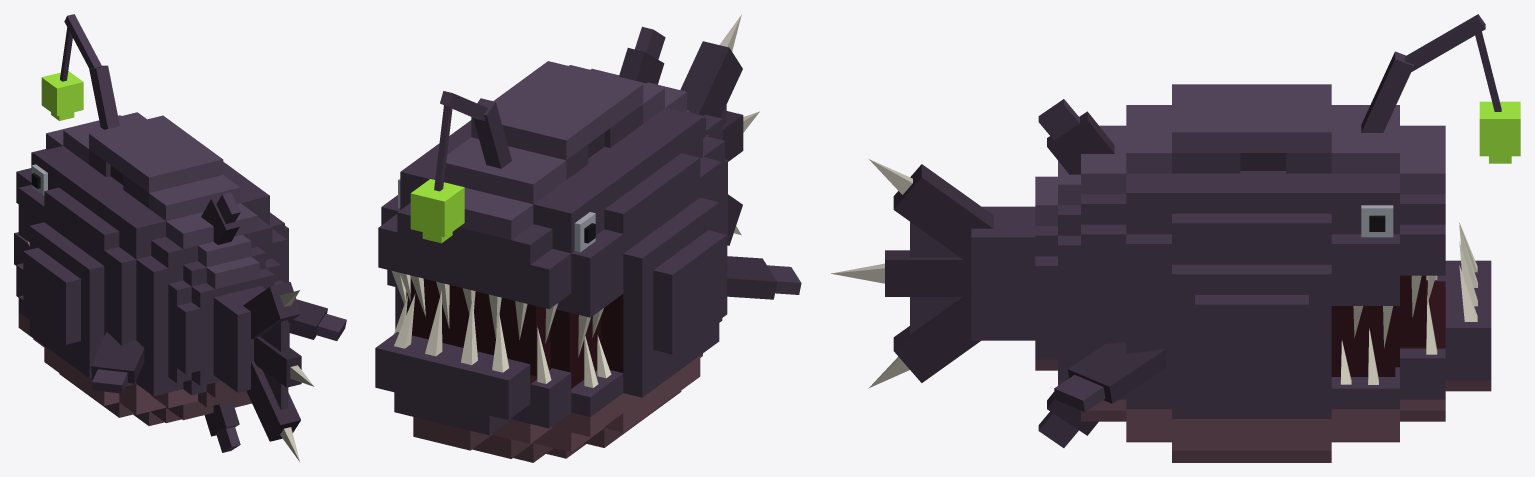
Rendered from Anglerfish.obj.
3 renders of one model, left to right at view 1: azimuth 30°, elevation 25°; view 2: azimuth 150°, elevation 25°; view 3: azimuth 270°, elevation 25°, orthographic. The views are drawn at different scales.
Parts seen in each view (by area): view 1: Body, B3, Tail, B2, FinL, Lure, FinR, Rod1, Jaw, Rod2; view 2: Body, Jaw, Tail, Lure, B2, B3, FinL, Rod1, Rod2; view 3: Body, B3, Tail, Jaw, B2, FinR, Lure, Rod1, Rod2.
Part boxes in pixels (x1,y1,x2,y2): Body: (16, 112, 288, 425); B3: (136, 192, 289, 452); Tail: (213, 282, 314, 462); B2: (104, 175, 284, 423); FinL: (91, 331, 144, 393); Lure: (41, 27, 83, 120); FinR: (289, 299, 346, 340); Rod1: (89, 65, 119, 129); Jaw: (14, 232, 44, 346); Rod2: (64, 14, 101, 68); Body: (378, 61, 727, 458); Jaw: (375, 290, 623, 462); Tail: (680, 14, 759, 245); Lure: (410, 105, 464, 243); B2: (569, 65, 722, 357); B3: (591, 26, 727, 239); FinL: (727, 256, 801, 299); Rod1: (473, 98, 511, 168); Rod2: (440, 91, 487, 120); Body: (1172, 84, 1445, 462); B3: (1035, 99, 1126, 447); Tail: (831, 159, 1035, 388); Jaw: (1331, 222, 1491, 442); B2: (1126, 105, 1171, 442); FinR: (1054, 341, 1165, 411); Lure: (1475, 31, 1520, 163); Rod1: (1361, 51, 1413, 132); Rod2: (1405, 14, 1485, 71).
Bounding box in the file's own units: 9.95 × 12.05 × 17.57.
Materials: 1 (1 with a texture image).
